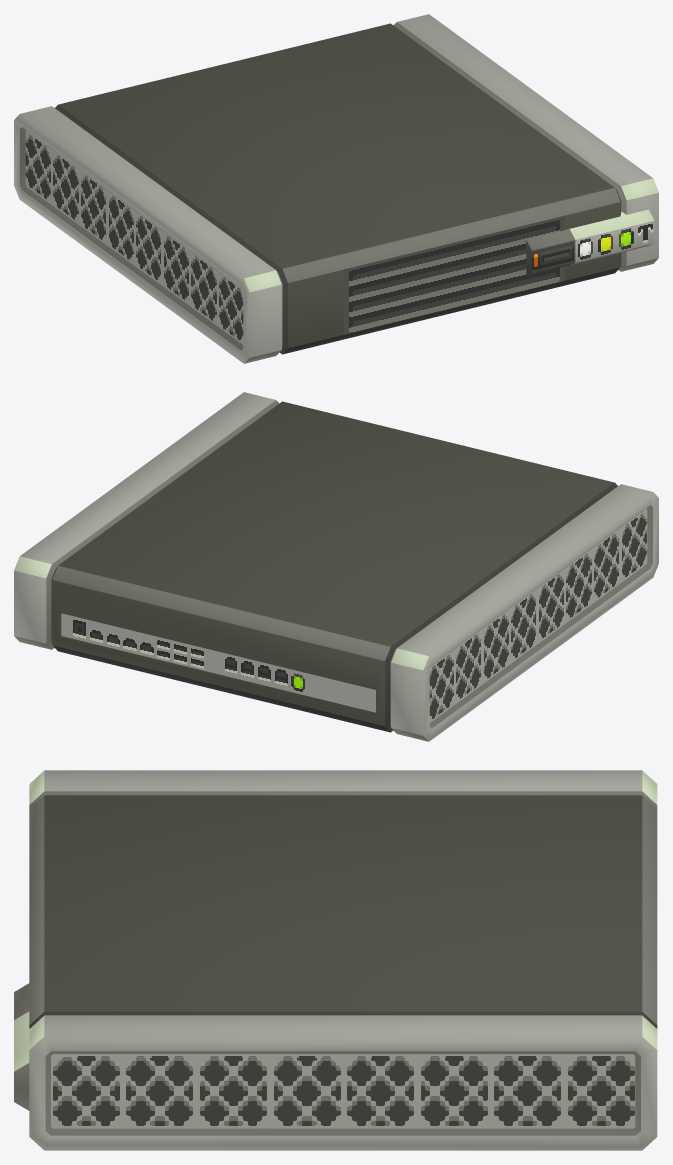
Rendered from server-closed.glb.
3 views of the same model, one above another, from view 1: azimuth 30°, elevation 25°; view 2: azimuth 150°, elevation 25°; view 3: azimuth 270°, elevation 25° (orthographic). The views are drawn at different scales.
Parts seen in each view (by area): view 1: Plane, Plane.051; view 2: Plane; view 3: Plane, Plane.051.
Part boxes in pixels (bbox=[...]): Plane: bbox=[14, 14, 658, 363]; Plane.051: bbox=[526, 209, 654, 275]; Plane: bbox=[14, 392, 658, 741]; Plane: bbox=[29, 770, 657, 1150]; Plane.051: bbox=[14, 983, 29, 1110].
Size of the model in its own units: 0.5 by 0.1 by 0.512.
Materials: 1 (1 with a texture image).
